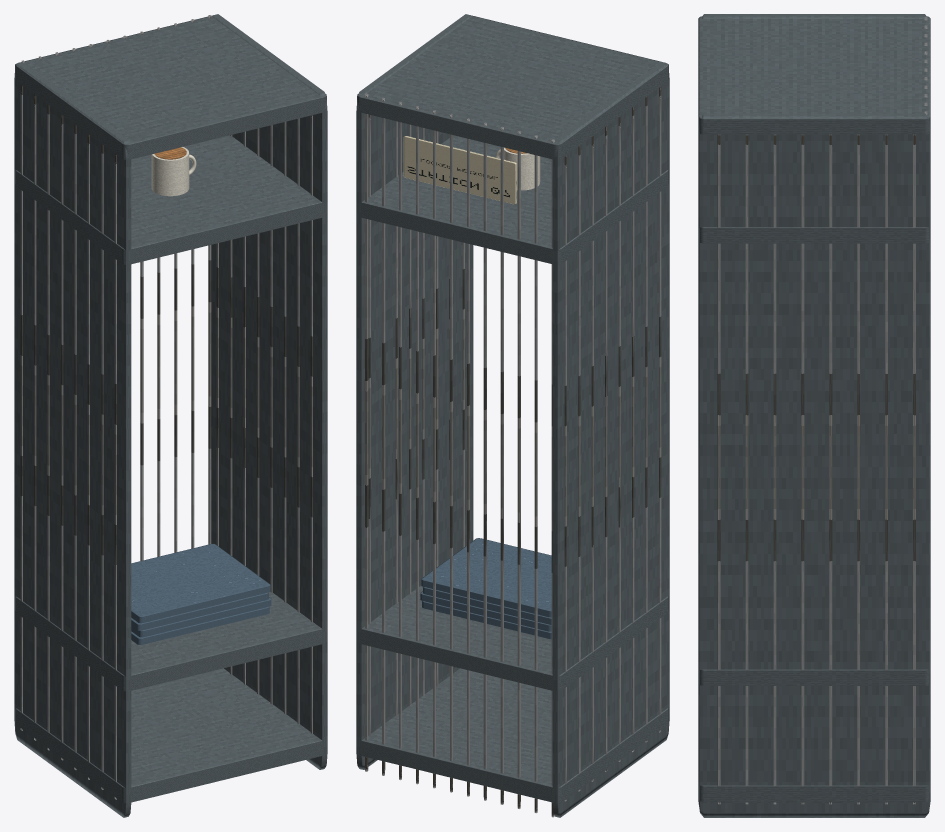
The model's file is locker-personal.glb.
3 renders of one model, left to right at view 1: azimuth 30°, elevation 25°; view 2: azimuth 150°, elevation 25°; view 3: azimuth 270°, elevation 25°, orthographic. The views are drawn at different scales.
Visible parts, largest first — view 1: side (×2), shelf (×4), rail (×16), uniform-fold (×4), back-wire (×5), mug-cup; view 2: side (×2), shelf (×4), back-wire (×12), rail (×14), uniform-fold (×4), name, mug-cup; view 3: side (×2), shelf (×4), rail (×8).
Part boxes in pixels (<box>): side (×2): <box>14,14,327,817</box>; shelf (×4): <box>15,15,326,802</box>; rail (×16): <box>20,85,312,799</box>; uniform-fold (×4): <box>131,543,271,644</box>; back-wire (×5): <box>140,15,211,560</box>; mug-cup: <box>151,147,189,196</box>; side (×2): <box>356,14,669,817</box>; shelf (×4): <box>357,15,668,802</box>; back-wire (×12): <box>365,93,554,817</box>; rail (×14): <box>368,86,661,801</box>; uniform-fold (×4): <box>420,538,551,639</box>; name: <box>403,136,516,204</box>; mug-cup: <box>504,147,540,190</box>; side (×2): <box>698,14,930,817</box>; shelf (×4): <box>698,16,930,801</box>; rail (×8): <box>717,134,915,804</box>.
Bounding box in the file's own units: 0.6 × 1.9 × 0.57.
6 materials, 6 textured.
